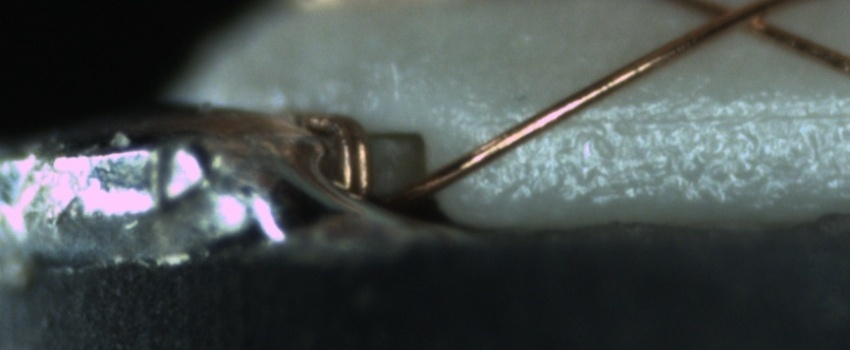CL: (686, 0, 793, 41)
DL: (470, 84, 849, 154)
TE: (298, 106, 374, 203)
